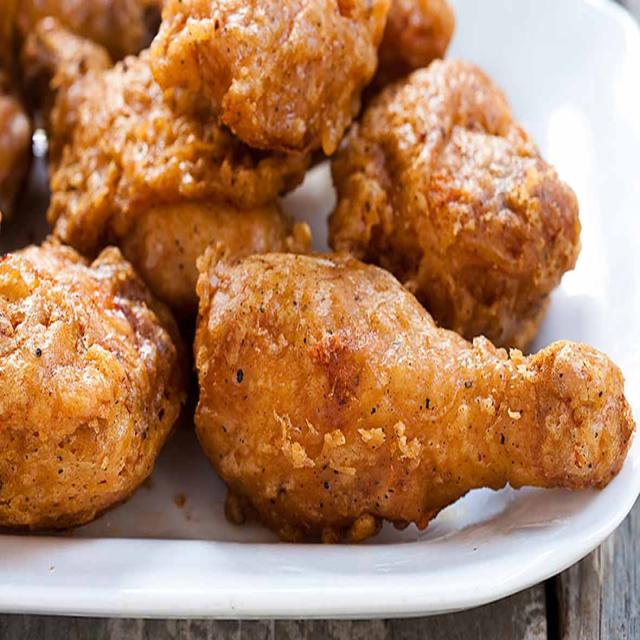Wet: (183, 242, 639, 553)
